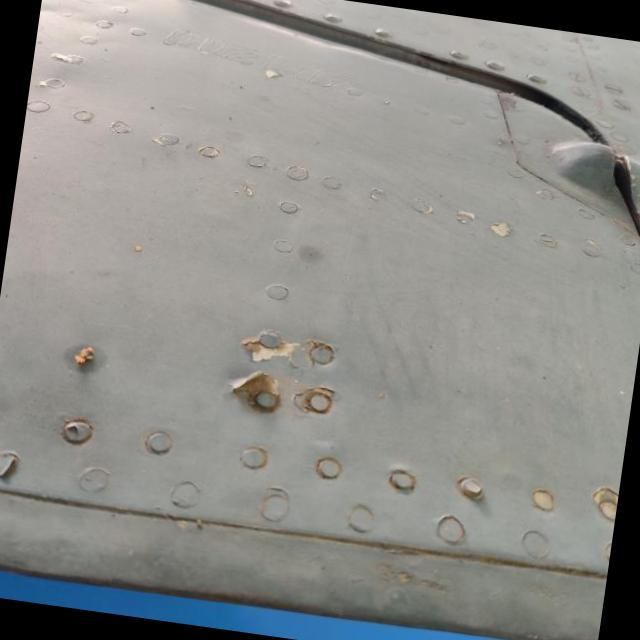Paint-off: (231, 371, 336, 415), (242, 330, 336, 369)
